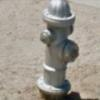a fire hydrant: (34, 0, 82, 97)
